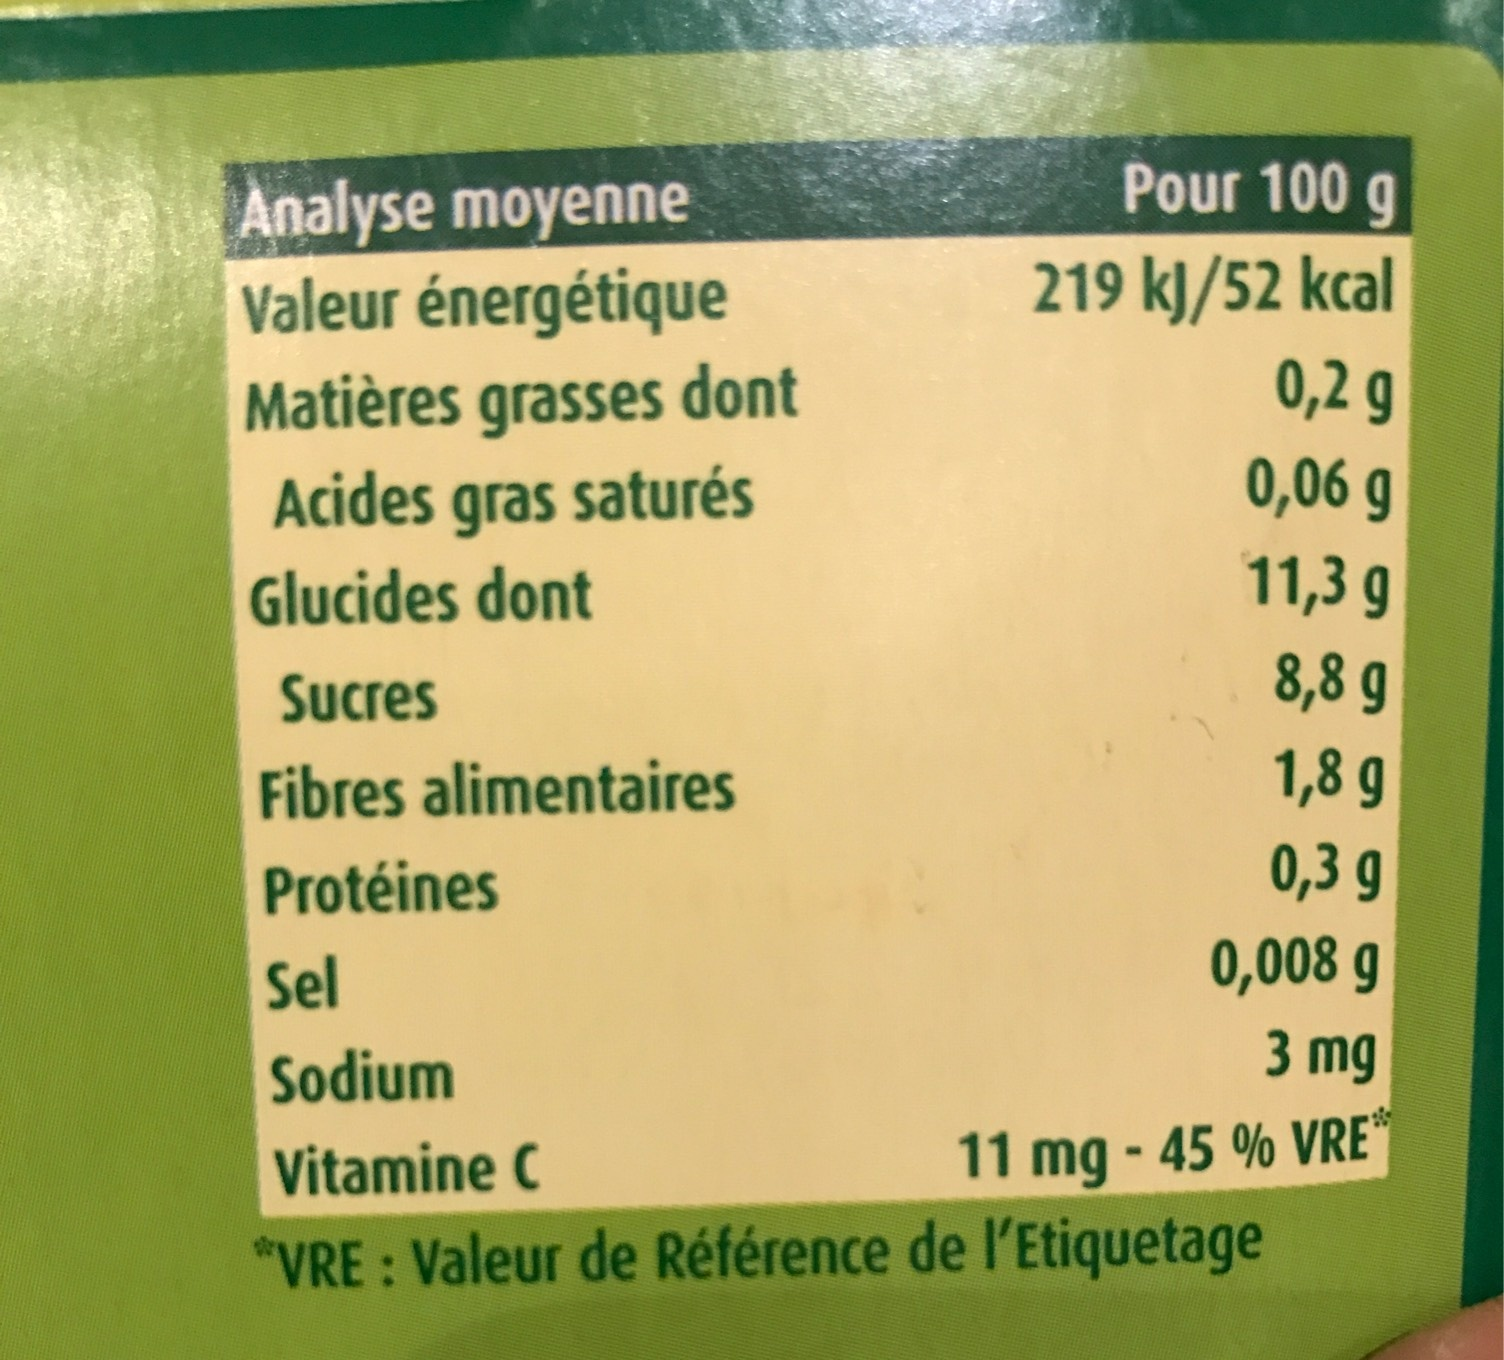column: (231, 179, 799, 1194), (958, 161, 1394, 1190)
table: (207, 138, 1419, 1224)
